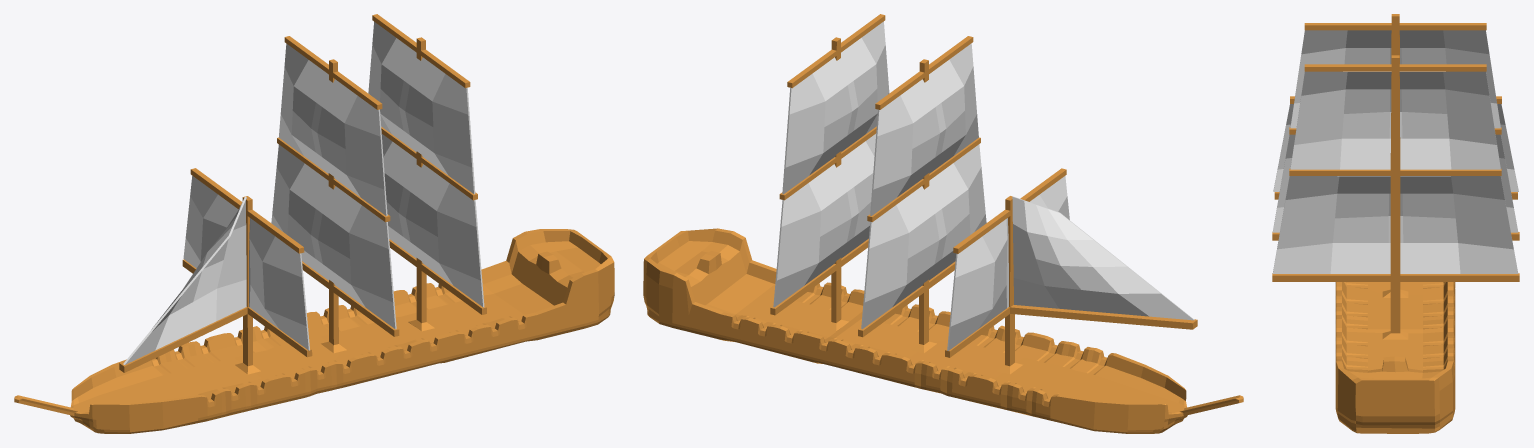
Rendered from brig.glb.
3 views of the same model, side by side, from view 1: azimuth 30°, elevation 25°; view 2: azimuth 150°, elevation 25°; view 3: azimuth 270°, elevation 25° (orthographic). The views are drawn at different scales.
Parts seen in each view (by area): view 1: Cube; view 2: Cube; view 3: Cube.
Boxes of the visible parts, <box> form: Cube: <box>14,14,614,433</box>; Cube: <box>643,14,1243,433</box>; Cube: <box>1272,14,1519,433</box>.
Bounding box in the file's own units: 43.18 × 21.95 × 16.29.
